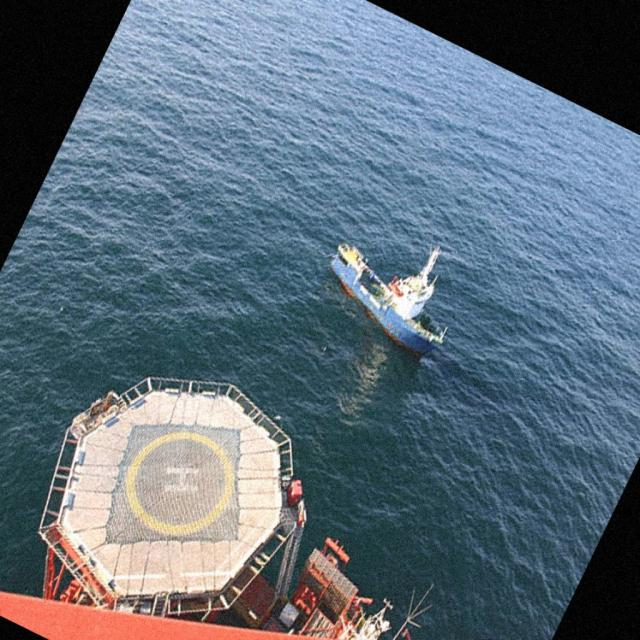helipad: (119, 429, 239, 539)
